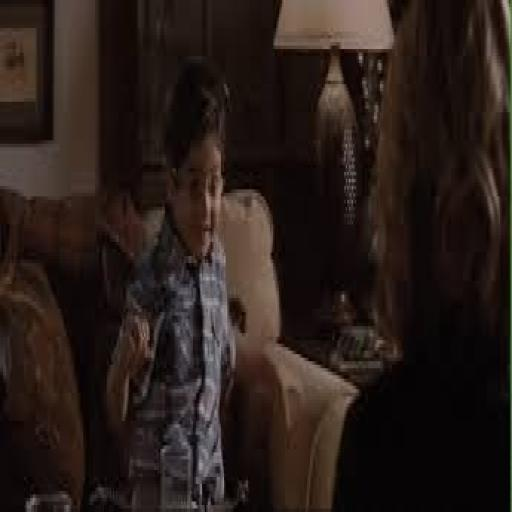dancing: (102, 49, 242, 509)
